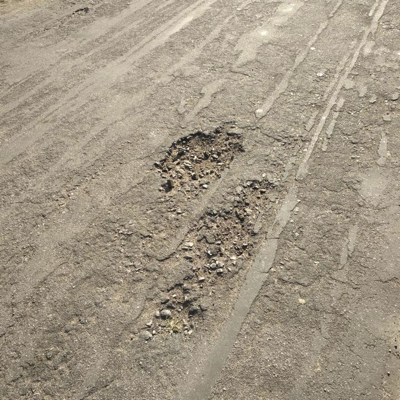pothole: (147, 179, 279, 338), (154, 120, 247, 199)
